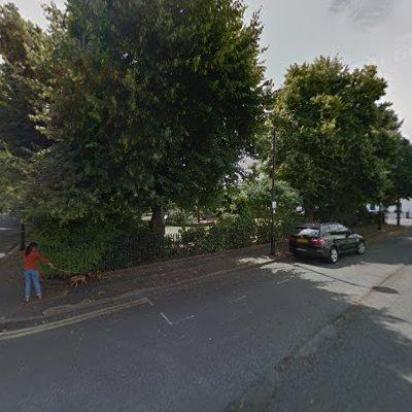stationary-car-onstreet: (287, 221, 367, 263)
